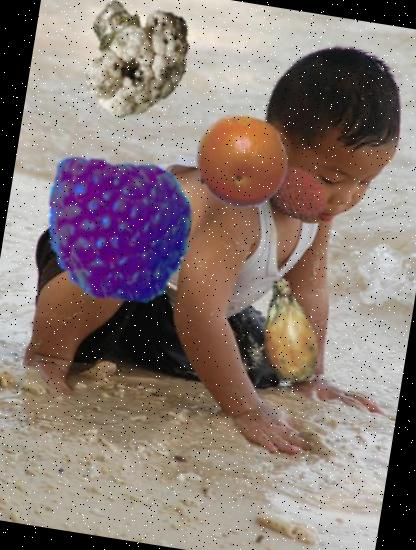Cactus: (226, 269, 350, 393)
Cauliflower: (61, 0, 205, 125)
Lychee: (264, 160, 332, 228)
Raspberry: (34, 146, 204, 315)
Tangelo: (186, 107, 296, 217)
